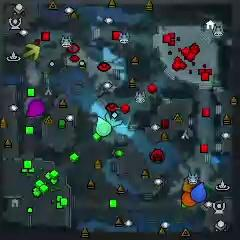p1: (190, 182, 207, 202)
p2: (96, 116, 112, 136)
p3: (26, 100, 45, 117)
p5: (180, 191, 195, 207)
x2: (23, 43, 40, 60)
x3: (105, 111, 123, 127)
x5: (181, 177, 196, 192)
